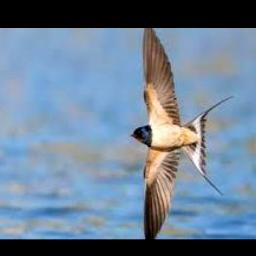Swallow: (131, 28, 235, 239)
